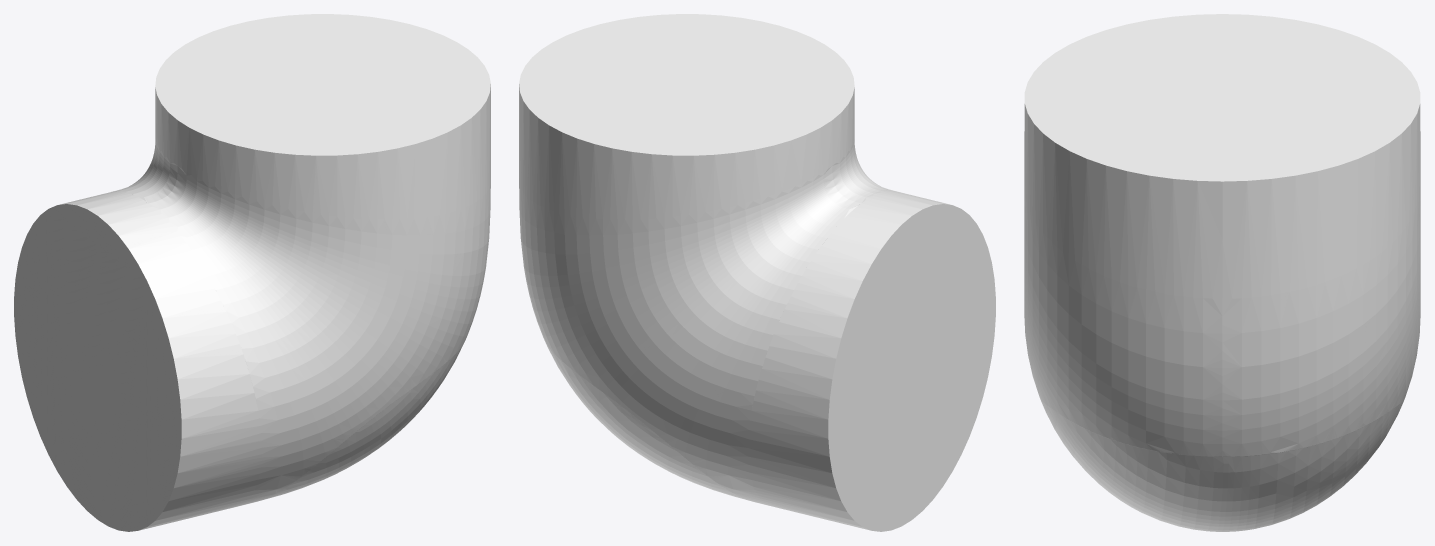
3 renders of one model, left to right at view 1: azimuth 30°, elevation 25°; view 2: azimuth 150°, elevation 25°; view 3: azimuth 270°, elevation 25°, orthographic. The views are drawn at different scales.
Visible parts, largest first — view 1: Link5; view 2: Link5; view 3: Link5.
Part boxes in pixels (<box>): Link5: <box>14,14,490,531</box>; Link5: <box>519,14,995,531</box>; Link5: <box>1024,14,1420,531</box>.
Bounding box in the file's own units: 0.049 × 0.0384 × 0.048.
Materials: 1 (1 with a texture image).
